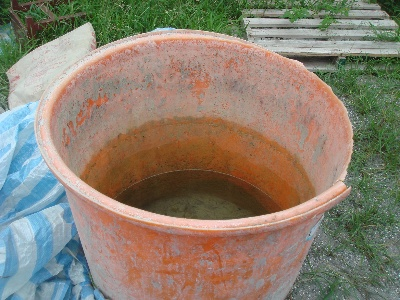bucket: (33, 27, 354, 300)
plastic_bag: (1, 102, 105, 300)
